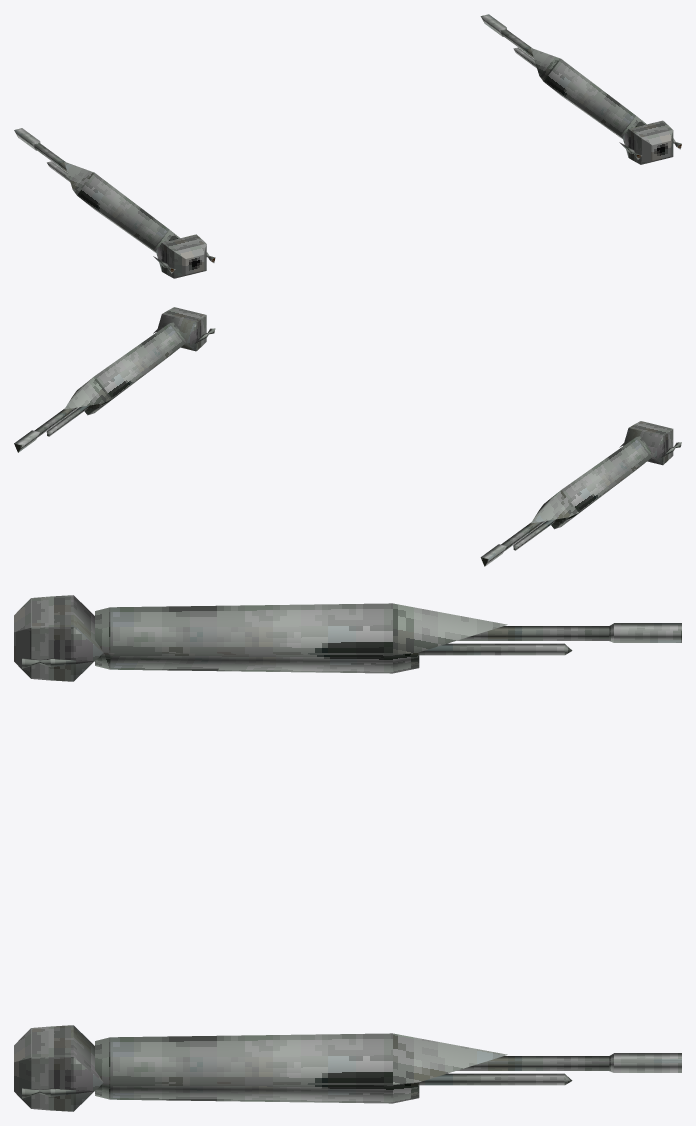
Rendered from awing_weapon_s03_l2.fbx.
3 views of the same model, one above another, from view 1: azimuth 30°, elevation 25°; view 2: azimuth 150°, elevation 25°; view 3: azimuth 270°, elevation 25° (orthographic). The views are drawn at different scales.
Parts seen in each view (by area): view 1: mesh_node; view 2: mesh_node; view 3: mesh_node.
Boxes of the visible parts, x1=… form: mesh_node: x1=14, y1=14, x2=681, y2=278; mesh_node: x1=14, y1=307, x2=681, y2=566; mesh_node: x1=14, y1=595, x2=681, y2=1111.
Bounding box in the file's own units: 9.53 × 0.6605 × 5.7.
